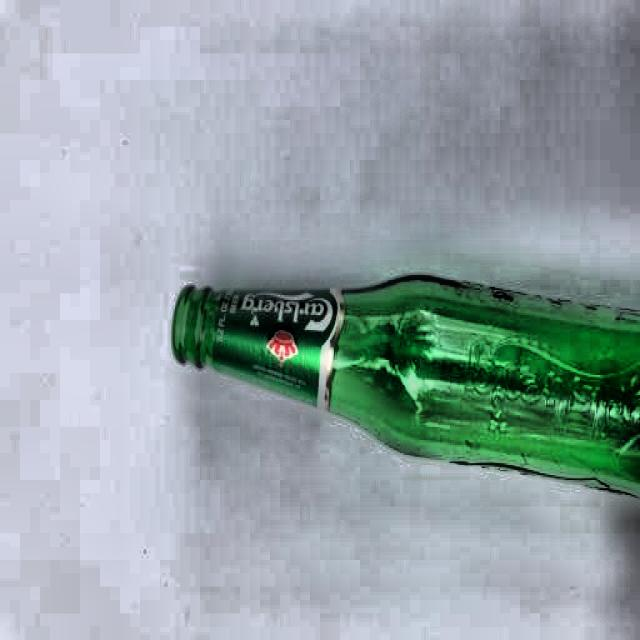glass: (169, 268, 640, 503)
